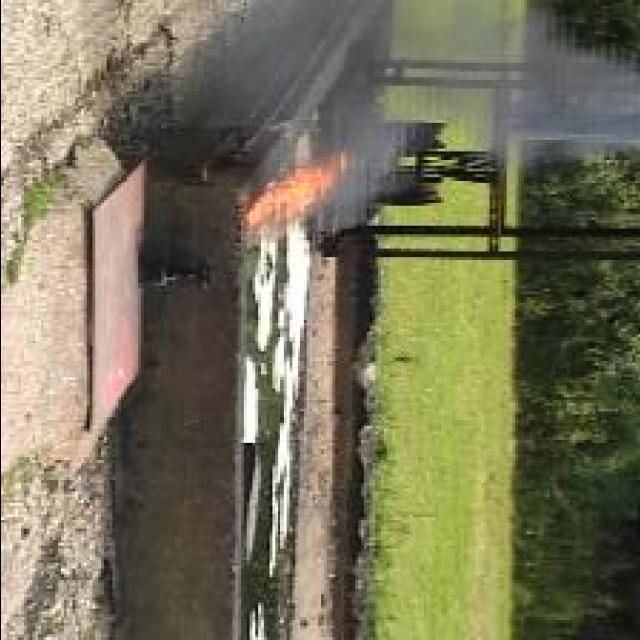Fire: (246, 152, 354, 235)
